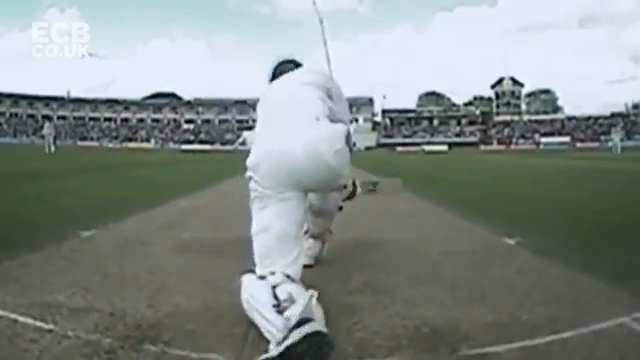batsman: (239, 56, 362, 360)
